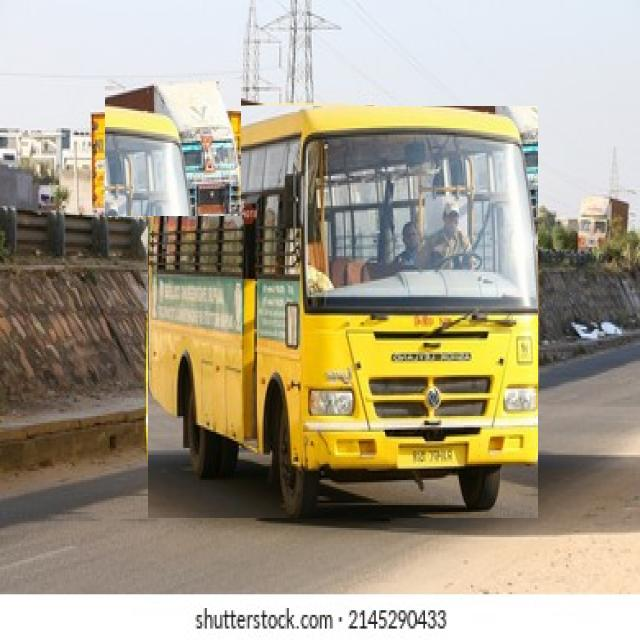bus: (149, 106, 538, 518)
truck: (105, 80, 241, 216), (577, 197, 629, 250)
